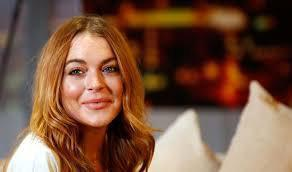Drunk: (65, 36, 121, 123)
